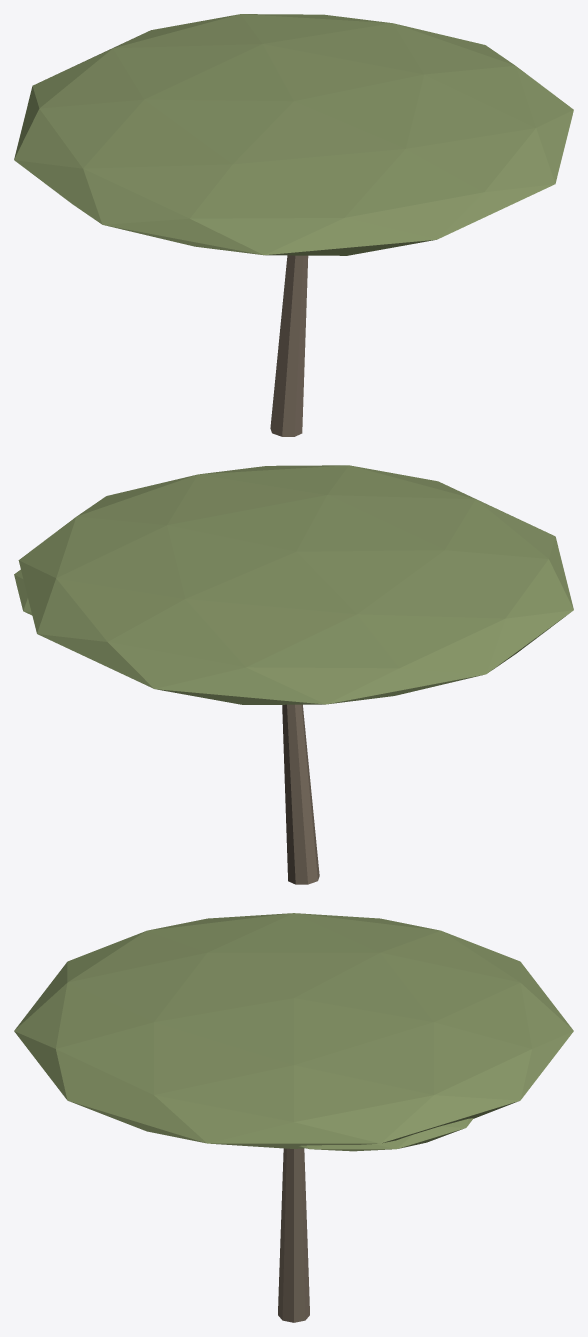
The model's file is acacia_LOD0.fbx.
3 views of the same model, one above another, from view 1: azimuth 30°, elevation 25°; view 2: azimuth 150°, elevation 25°; view 3: azimuth 270°, elevation 25° (orthographic). The views are drawn at different scales.
Parts seen in each view (by area): view 1: acacia; view 2: acacia; view 3: acacia.
Part boxes in pixels (x1,y1,x2,y2): acacia: (14,14,573,436); acacia: (14,465,573,884); acacia: (14,913,573,1322).
Bounding box in the file's own units: 1050 × 700 × 1104.
